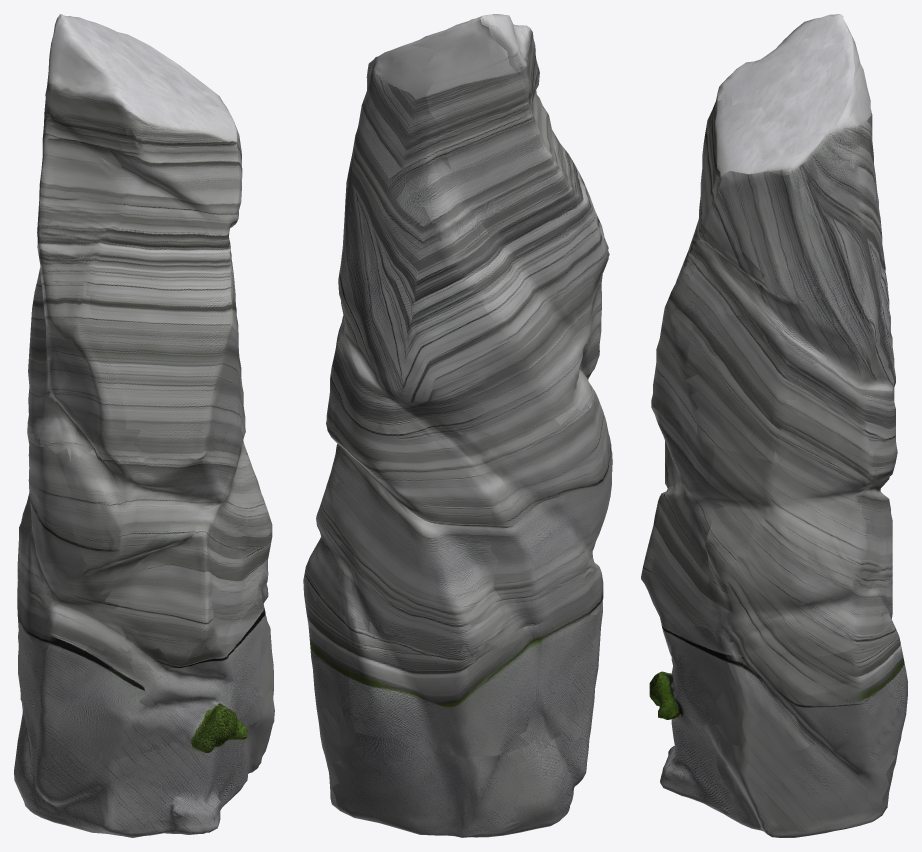
The model's file is ground_boulder_b.glb.
3 views of the same model, side by side, from view 1: azimuth 30°, elevation 25°; view 2: azimuth 150°, elevation 25°; view 3: azimuth 270°, elevation 25° (orthographic). The views are drawn at different scales.
Bounding box in the file's own units: 0.6145 × 1.91 × 0.6145.
Materials: 1 (1 with a texture image).
